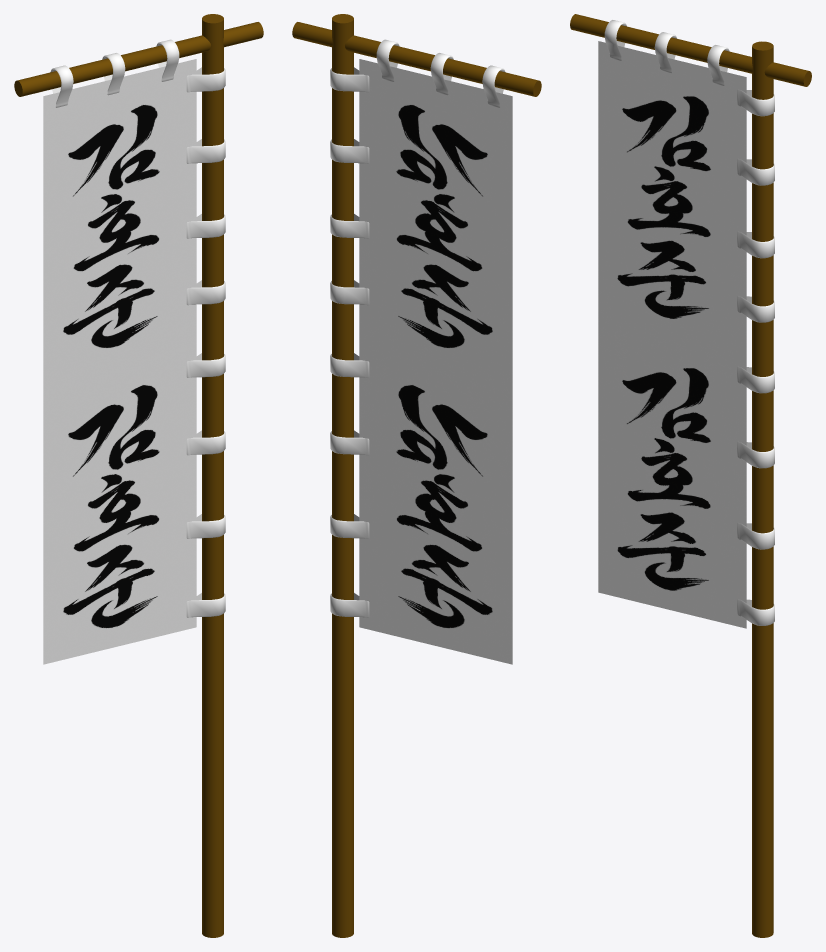
File: Hata_1.fbx
The picture shows the model from 3 angles, left to right: view 1: azimuth 30°, elevation 25°; view 2: azimuth 150°, elevation 25°; view 3: azimuth 330°, elevation 25°; orthographic projection. The views are drawn at different scales.
Visible parts, largest first — view 1: obj4; view 2: obj4; view 3: obj4.
Boxes of the visible parts, <box> form: obj4: <box>14,14,263,937</box>; obj4: <box>292,14,541,937</box>; obj4: <box>570,14,811,937</box>.
Bounding box in the file's own units: 6.65 × 73.15 × 265.
Materials: 3 (1 with a texture image).
